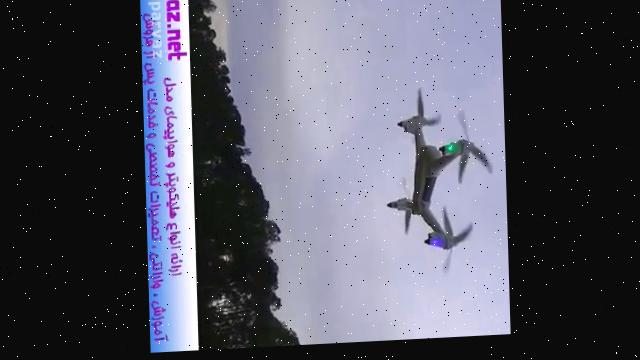drone: (381, 84, 498, 281)
